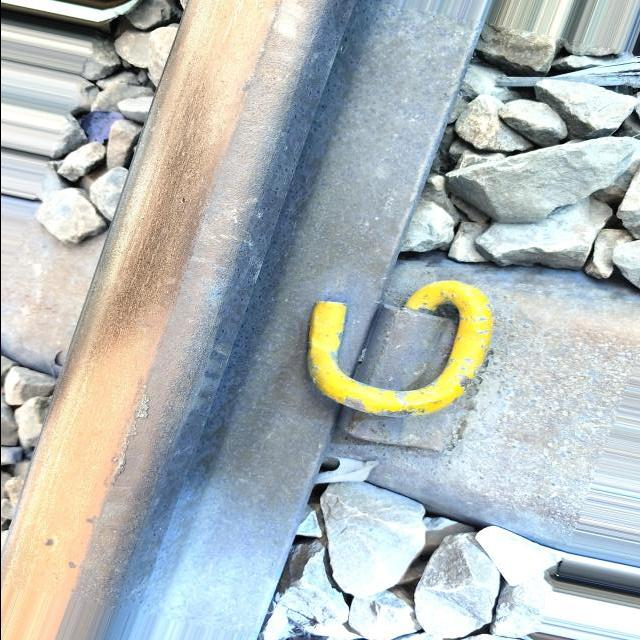broken_rail_medium: (104, 386, 150, 489), (42, 535, 58, 549), (64, 557, 78, 571), (84, 516, 100, 524)
